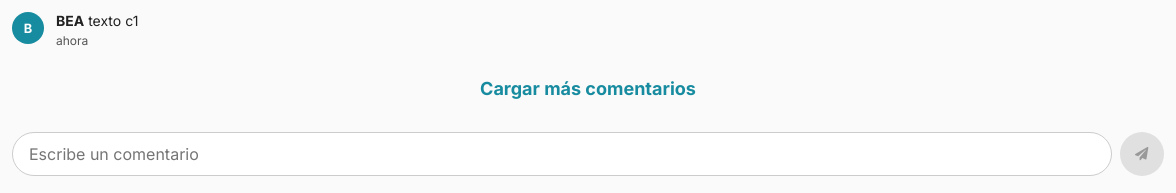
it: PostComments › lists the comments and loads more with the cursor
The image size is (1176, 193).
Expected: the text "texto c1" is shown, [88, 12, 138, 29]
Click the button "Cargar más comentarios".
click(588, 88)  # box [463, 61, 713, 116]
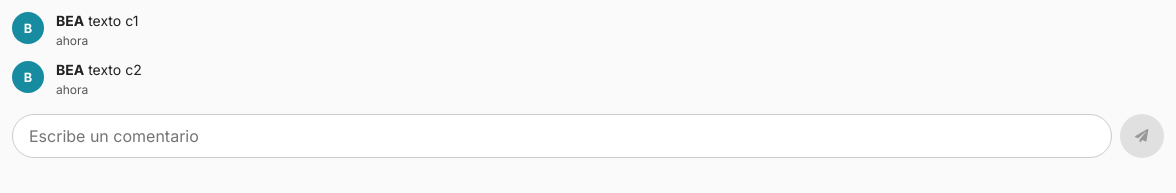
Result: the text "texto c2" is shown at [88, 61, 142, 78]
